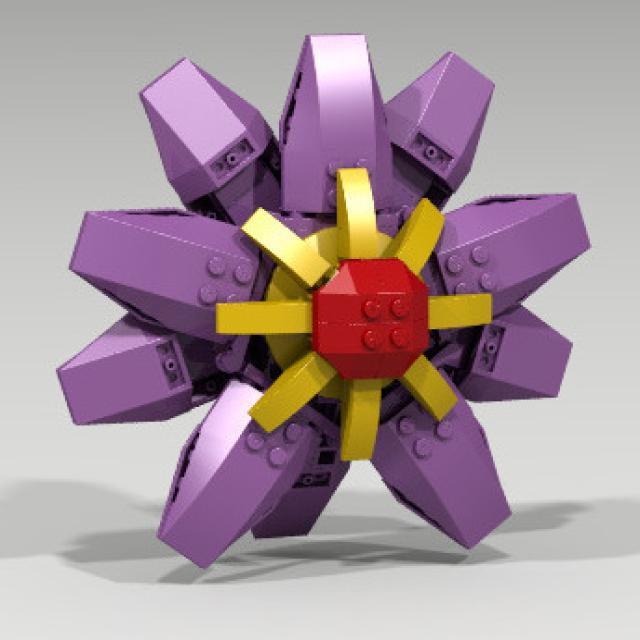Starmie: (56, 27, 595, 576)
